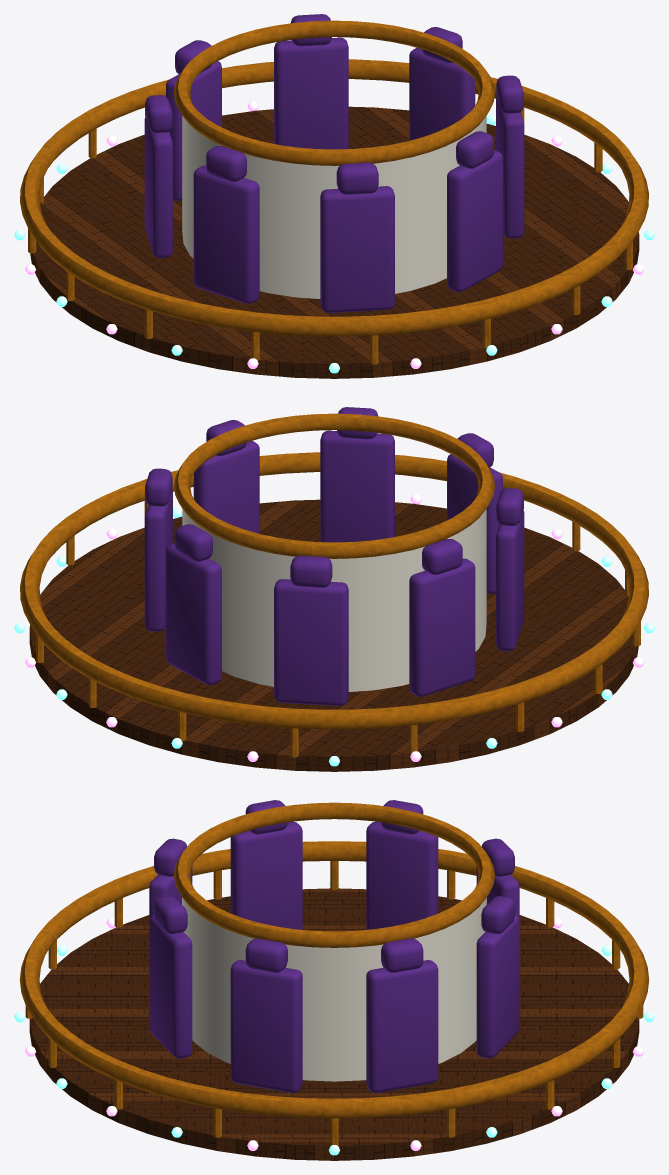
The model's file is drop-ring.glb.
3 views of the same model, one above another, from view 1: azimuth 30°, elevation 25°; view 2: azimuth 150°, elevation 25°; view 3: azimuth 270°, elevation 25° (orthographic).
Visible parts, largest first — view 1: drop-ring; view 2: drop-ring; view 3: drop-ring.
Part boxes in pixels (x1=…): drop-ring: x1=14, y1=14, x2=654, y2=378; drop-ring: x1=14, y1=407, x2=654, y2=771; drop-ring: x1=14, y1=800, x2=654, y2=1160.
Size of the model in its own units: 7.76 by 2.19 by 7.78.
6 materials, 2 textured.
